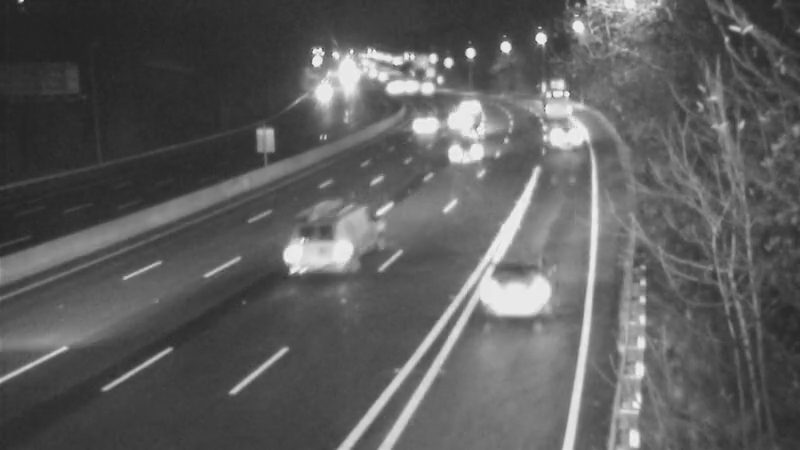vehicle: (417, 112, 497, 192), (271, 209, 351, 289), (472, 244, 552, 324), (364, 66, 414, 116), (399, 63, 449, 113), (519, 72, 569, 122), (443, 81, 493, 131), (428, 96, 478, 146), (398, 98, 448, 148), (450, 112, 500, 162), (537, 111, 587, 161), (298, 69, 348, 119)
